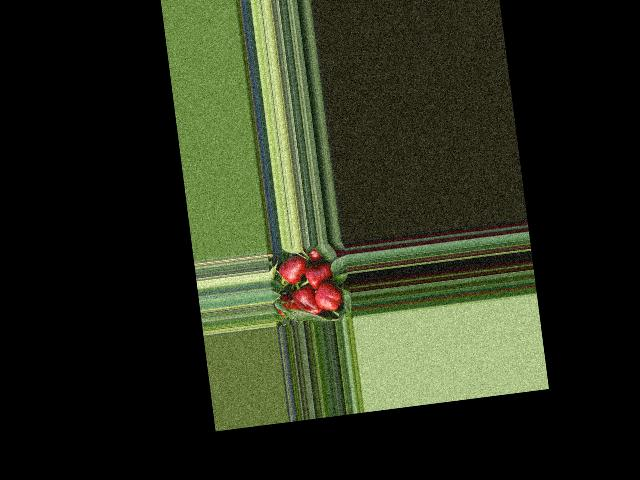bell_pepper: (312, 274, 343, 314)
